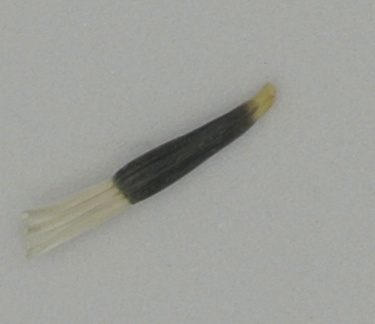เมล็ดดีติดกัน: (20, 80, 284, 259)
